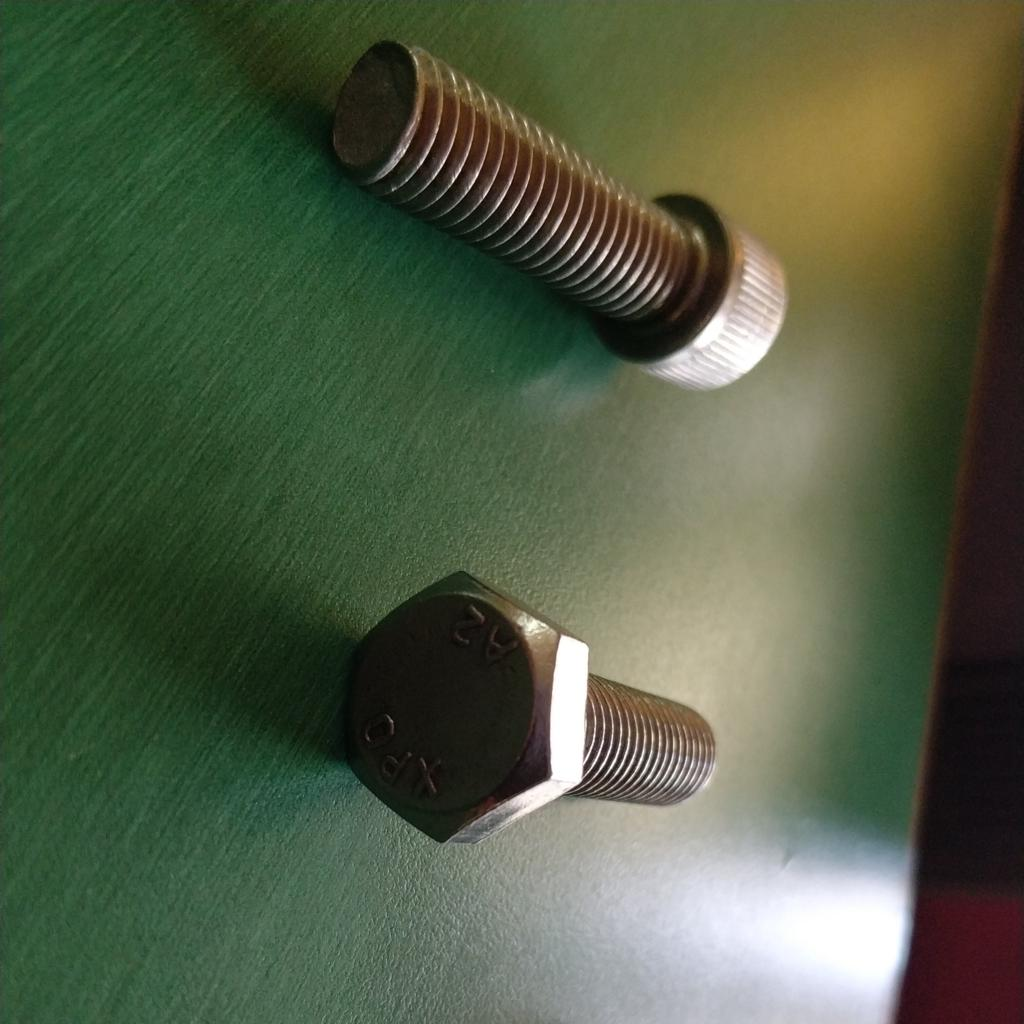screwtype1silver: (320, 34, 791, 399)
screwtype2silver: (329, 550, 726, 868)
